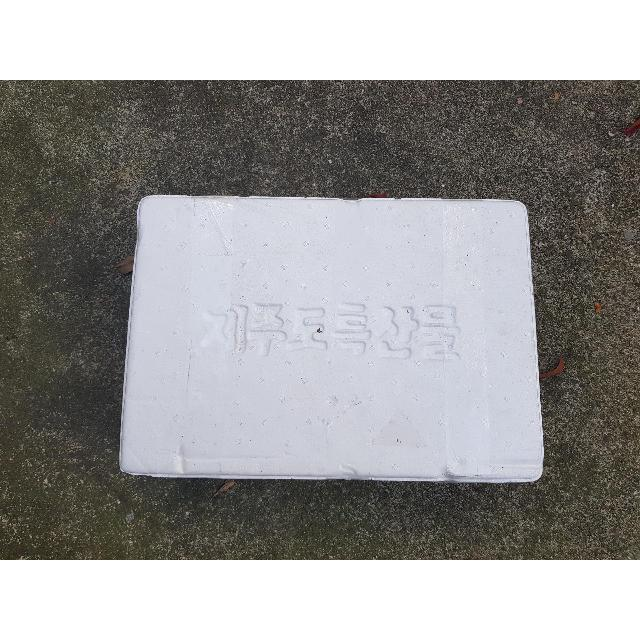Recipiente plastico: (120, 195, 544, 482)
